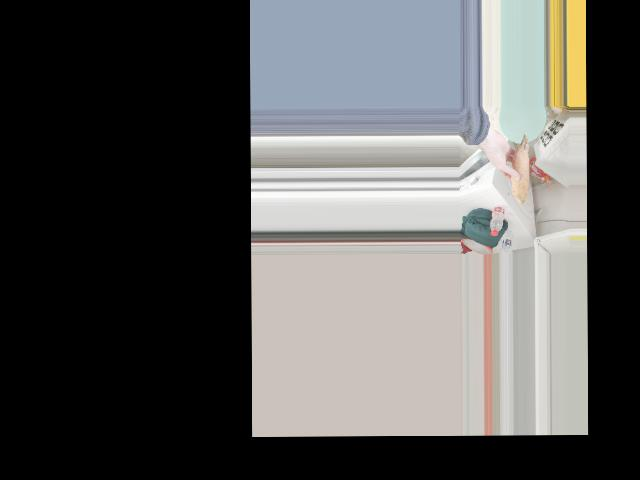sweet_potato: (506, 132, 530, 199)
